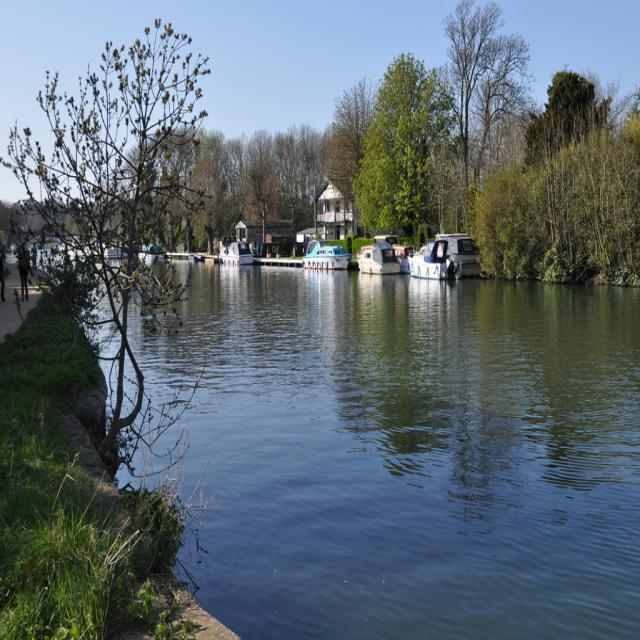Boat: (407, 228, 480, 270), (356, 243, 404, 273), (302, 243, 351, 269), (219, 237, 258, 267), (136, 243, 160, 260)
